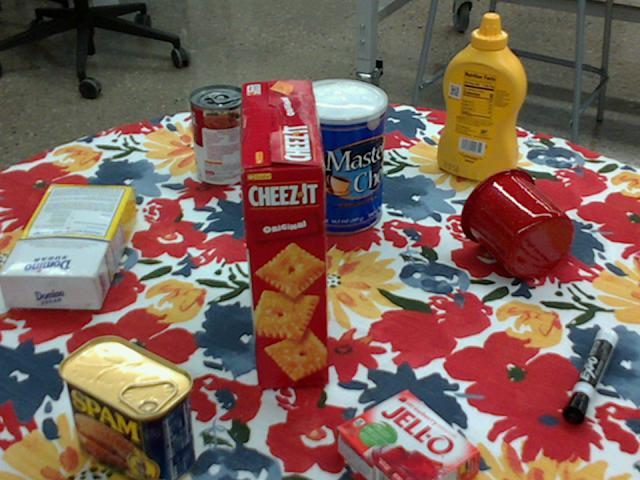cracker_box: (235, 83, 327, 389)
gelatin_box: (336, 389, 482, 479)
large_marker: (564, 326, 618, 421)
master_chef_can: (289, 78, 387, 235)
mug: (459, 167, 574, 278)
mustard_bottle: (436, 14, 525, 182)
potted_meat_can: (54, 336, 193, 479)
sugar_box: (0, 185, 136, 311)
tomato_soup_can: (189, 85, 250, 186)
tuna_fish_can: (315, 115, 383, 167)
